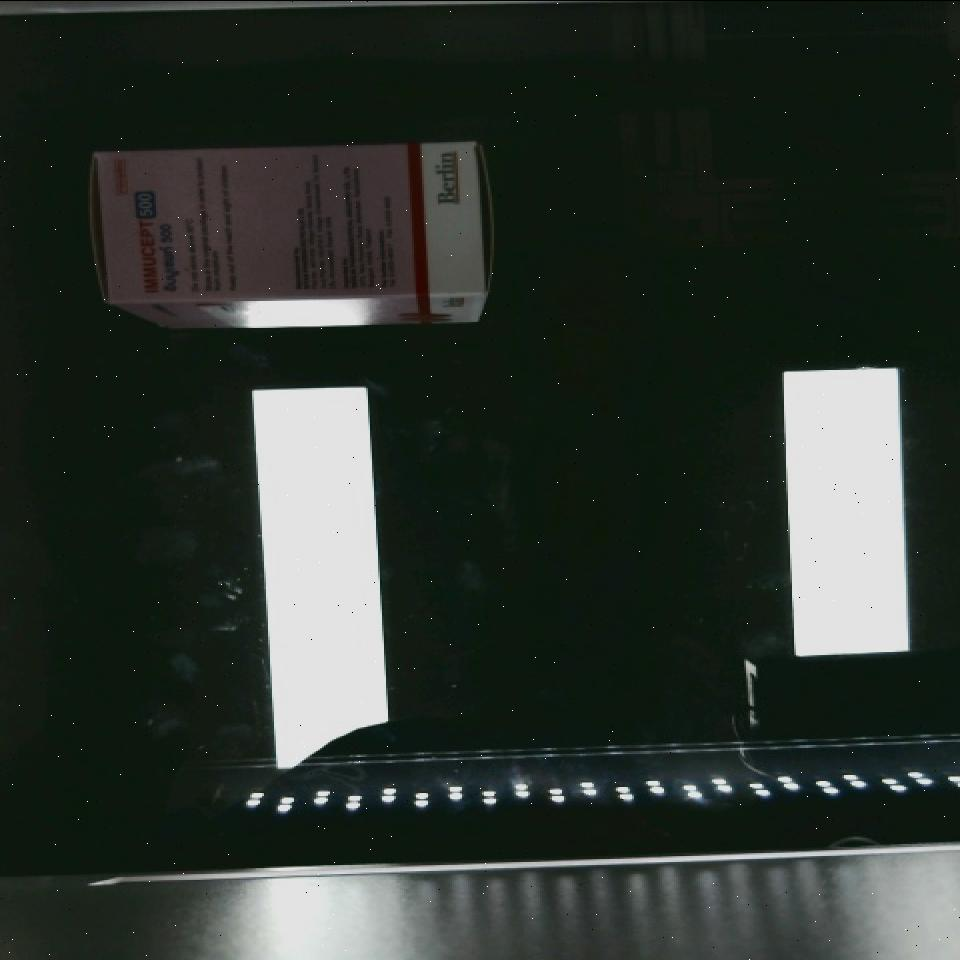medicine_box: (96, 139, 483, 302)
medicine_label_obb: (126, 184, 168, 297)
